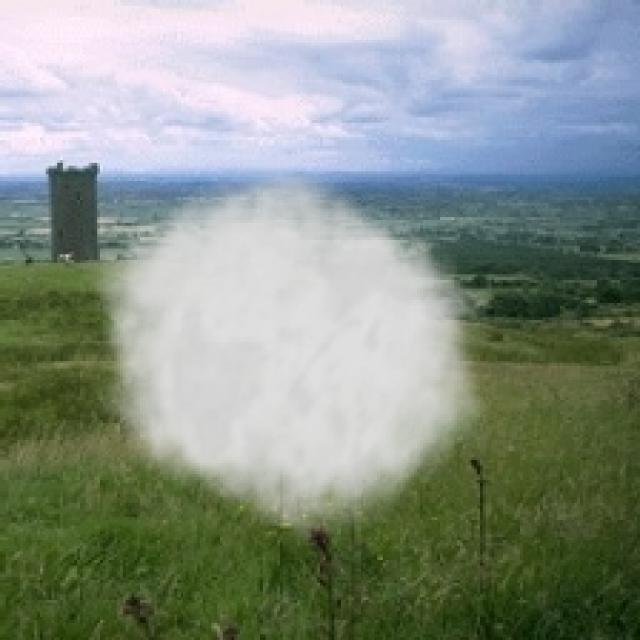smoke: (80, 157, 491, 549)
